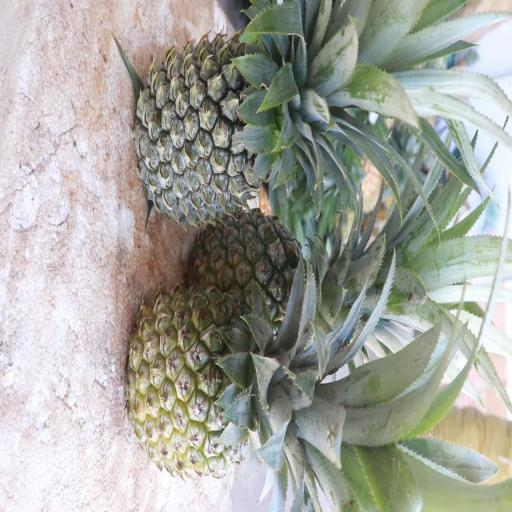------------------------------: (122, 280, 358, 486), (184, 206, 371, 340)
